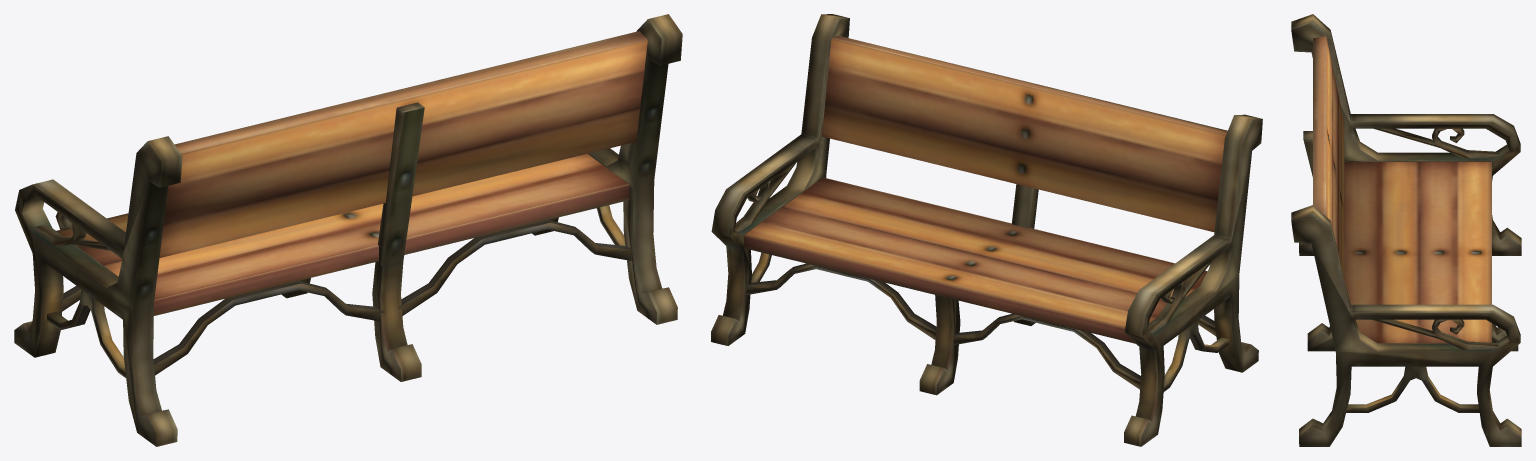
Rendered from c_SWEbench01.glb.
The picture shows the model from 3 angles, left to right: view 1: azimuth 30°, elevation 25°; view 2: azimuth 150°, elevation 25°; view 3: azimuth 270°, elevation 25°; orthographic projection. The views are drawn at different scales.
Parts seen in each view (by area): view 1: c_SWEbench01; view 2: c_SWEbench01; view 3: c_SWEbench01.
Boxes of the visible parts, x1,y1,x2,y2 form: c_SWEbench01: (14, 14, 682, 446); c_SWEbench01: (711, 14, 1262, 446); c_SWEbench01: (1291, 14, 1521, 446).
Bounding box in the file's own units: 2 × 1.1 × 0.9789.
Materials: 1 (1 with a texture image).
